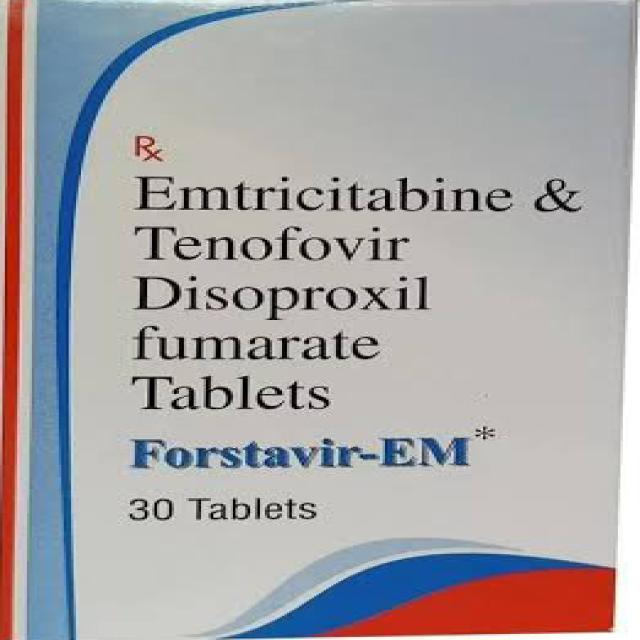drug-name: (126, 421, 469, 472)
